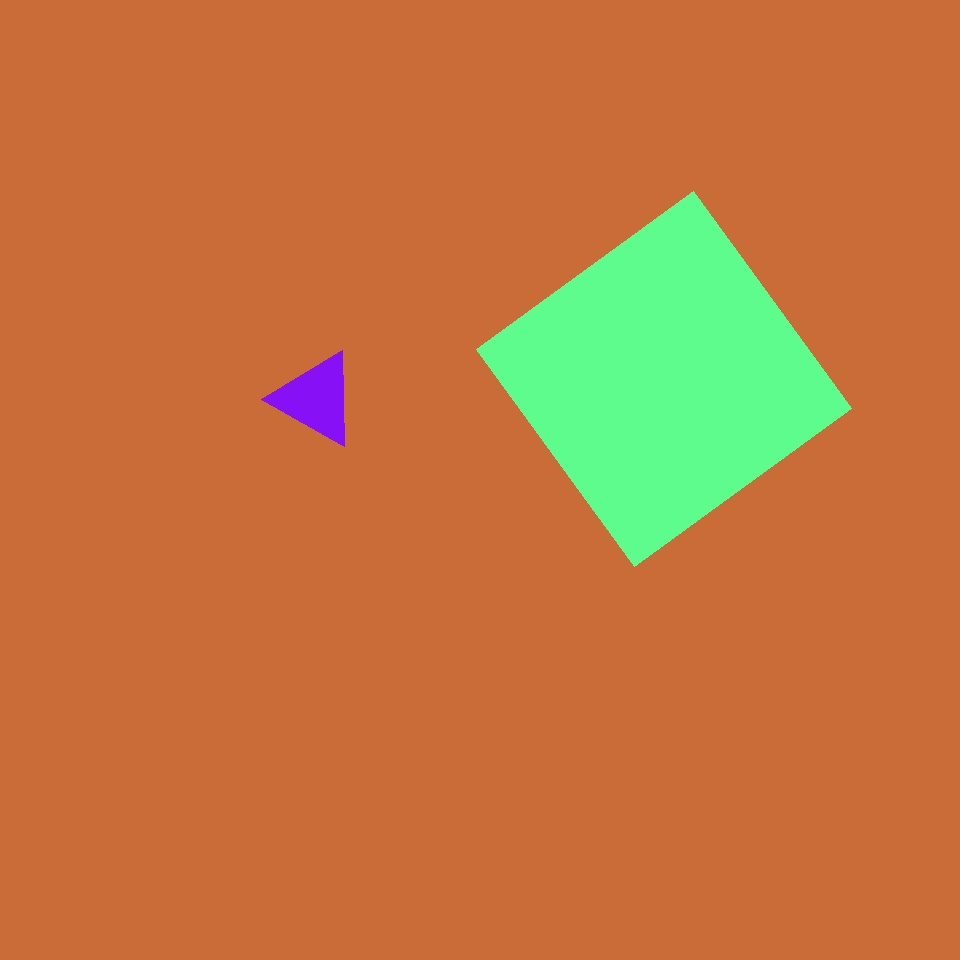circle: (274, 351, 358, 447)
square: (476, 192, 852, 566)
